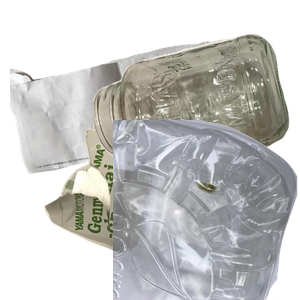glass: (91, 32, 300, 189)
paper: (10, 39, 236, 205)
plastic: (113, 120, 300, 300)
trash: (42, 126, 249, 300)
